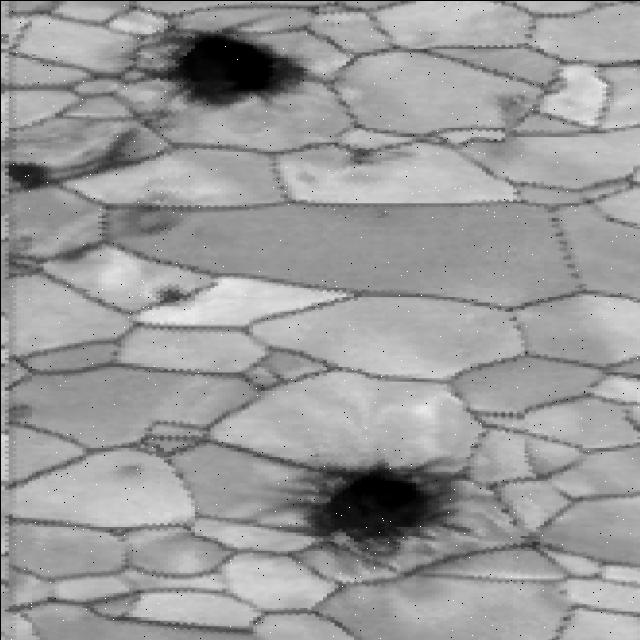good_void: (254, 443, 467, 578), (169, 61, 312, 104), (64, 118, 146, 175), (117, 191, 198, 241), (329, 140, 393, 170), (48, 238, 112, 265), (493, 88, 535, 125), (1, 399, 54, 426), (106, 455, 158, 481), (0, 159, 52, 184), (505, 528, 559, 552), (156, 283, 190, 306), (371, 208, 397, 219)
